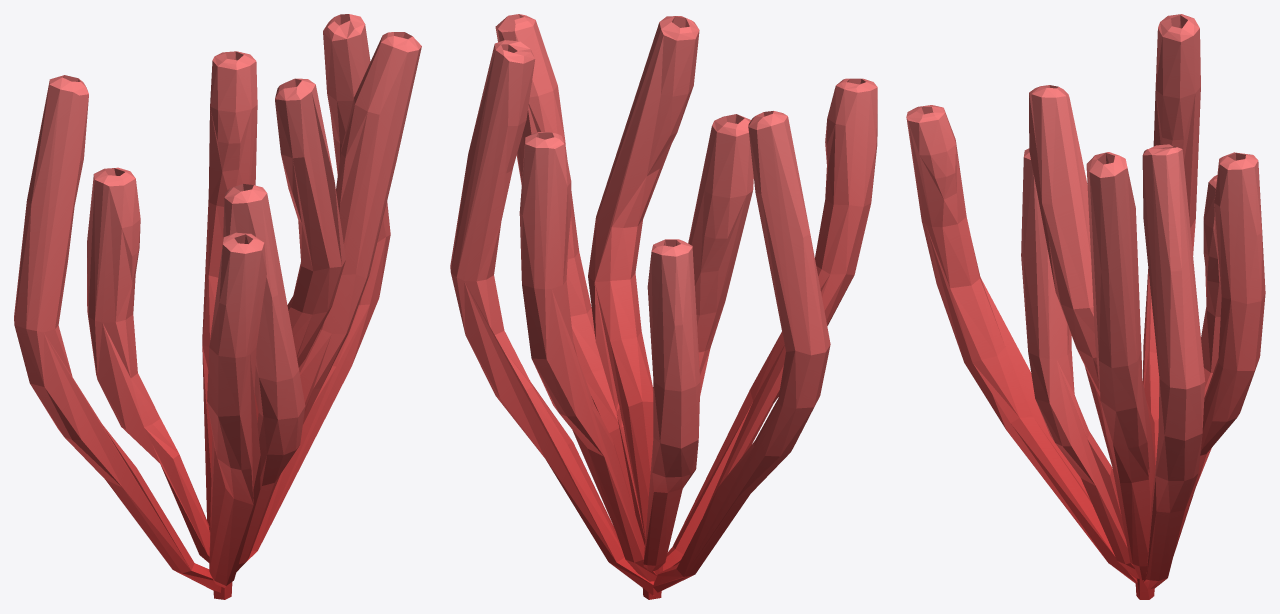
The model's file is SM_Spongia_20.fbx.
3 renders of one model, left to right at view 1: azimuth 30°, elevation 25°; view 2: azimuth 150°, elevation 25°; view 3: azimuth 270°, elevation 25°, orthographic. The views are drawn at different scales.
Visible parts, largest first — view 1: Spongia_20; view 2: Spongia_20; view 3: Spongia_20.
Boxes of the visible parts, <box> form: Spongia_20: <box>14,14,421,599</box>; Spongia_20: <box>450,14,877,599</box>; Spongia_20: <box>906,14,1265,599</box>.
Bounding box in the file's own units: 90.04 × 125 × 77.81.
